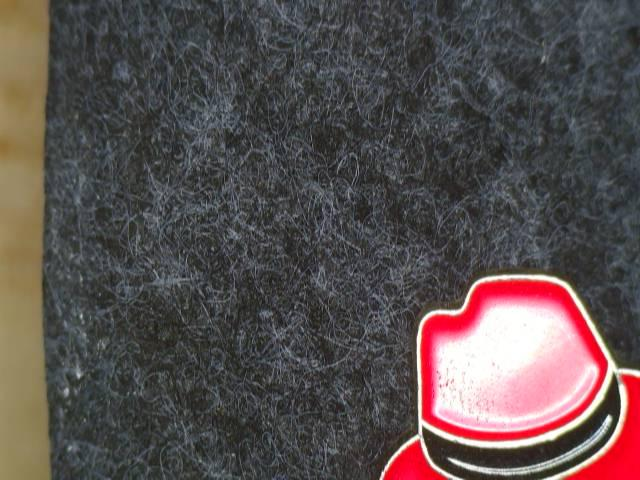Red-Hat: (331, 260, 640, 480)
